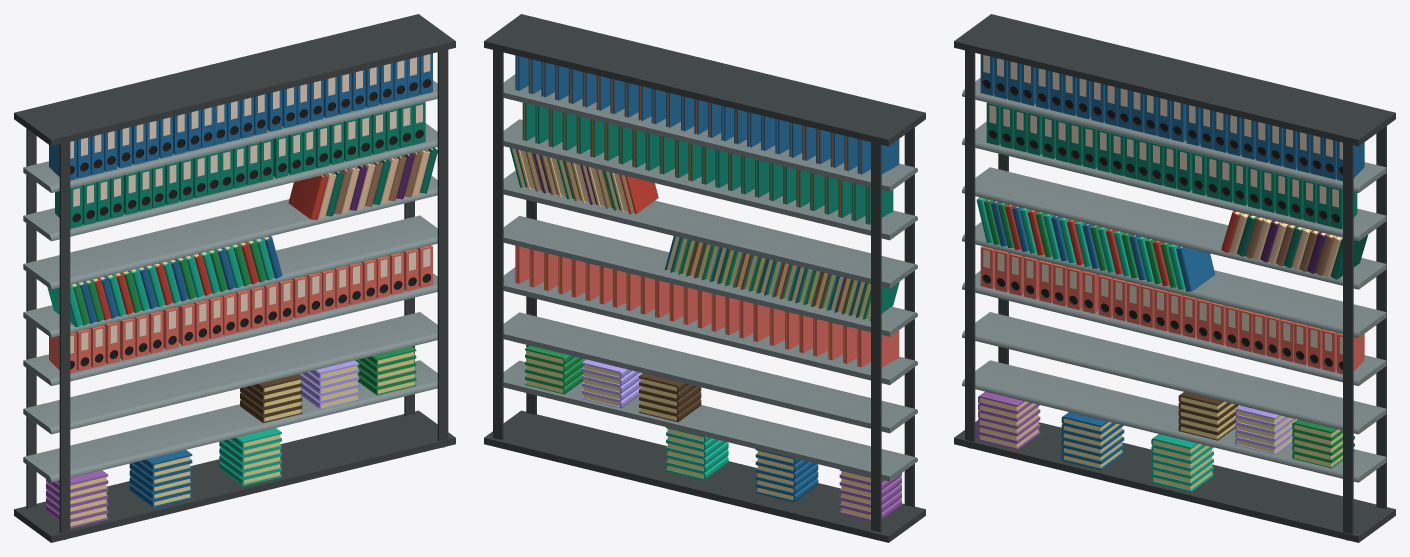
The model's file is Archive-Bookshelf-2.fbx.
The picture shows the model from 3 angles, left to right: view 1: azimuth 30°, elevation 25°; view 2: azimuth 150°, elevation 25°; view 3: azimuth 330°, elevation 25°; orthographic projection.
Parts seen in each view (by area): view 1: Archive-Bookshelf-2, Book-2.165, File.121, File.139, File.117, File.120, File.143, File.154, File.101, Book-2.131, Book-2.137, File.119 (+73 smaller); view 2: Archive-Bookshelf-2, Book-2.165, File.121, File.154, File.120, File.117, Book-2.194, File.113, File.139, Book-2.184, Book-2.189, File.129 (+27 smaller); view 3: Archive-Bookshelf-2, Book-2.164, File.164, File.120, File.119, File.153, File.142, File.116, Book-2.137, Book-2.131, Book-2.125, File.100 (+73 smaller).
Boxes of the visible parts, x1,y1,x2,y2 form: Archive-Bookshelf-2: (14, 14, 455, 542); Book-2.165: (288, 174, 328, 220); File.121: (177, 303, 194, 345); File.139: (55, 185, 82, 228); File.117: (118, 318, 135, 360); File.120: (162, 307, 178, 349); File.143: (123, 172, 138, 215); File.154: (273, 135, 288, 178); File.101: (267, 90, 282, 131); Book-2.131: (140, 450, 192, 470); Book-2.137: (230, 428, 281, 449); File.119: (147, 311, 163, 353); Archive-Bookshelf-2: (484, 14, 925, 542); Book-2.165: (619, 174, 658, 214); File.121: (753, 303, 769, 341); File.154: (659, 136, 674, 174); File.120: (769, 307, 784, 345); File.117: (813, 318, 828, 356); Book-2.194: (639, 373, 688, 393); File.113: (881, 330, 899, 367); File.139: (865, 186, 893, 224); Book-2.184: (525, 345, 575, 365); Book-2.189: (582, 359, 631, 379); File.129: (640, 276, 654, 314); Archive-Bookshelf-2: (954, 14, 1395, 542); Book-2.164: (1176, 246, 1215, 291); File.164: (1329, 186, 1357, 229); File.120: (1082, 271, 1099, 313); File.119: (1067, 267, 1083, 309); File.153: (1177, 149, 1192, 192); File.142: (1027, 112, 1042, 155); File.116: (1024, 257, 1040, 299); Book-2.137: (1151, 434, 1204, 455); Book-2.131: (1061, 412, 1114, 433); Book-2.125: (978, 391, 1030, 412); File.100: (1171, 101, 1186, 142).
Bounding box in the file's own units: 8.22 × 7.84 × 1.31.
